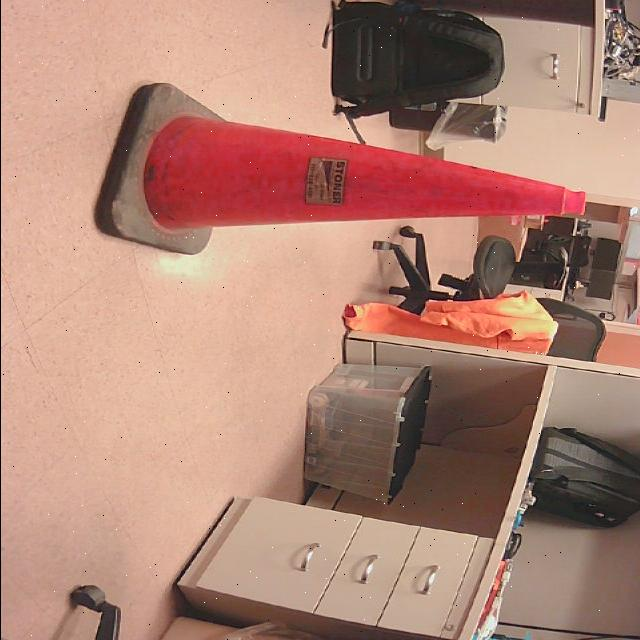traffic cone: (92, 84, 588, 255)
